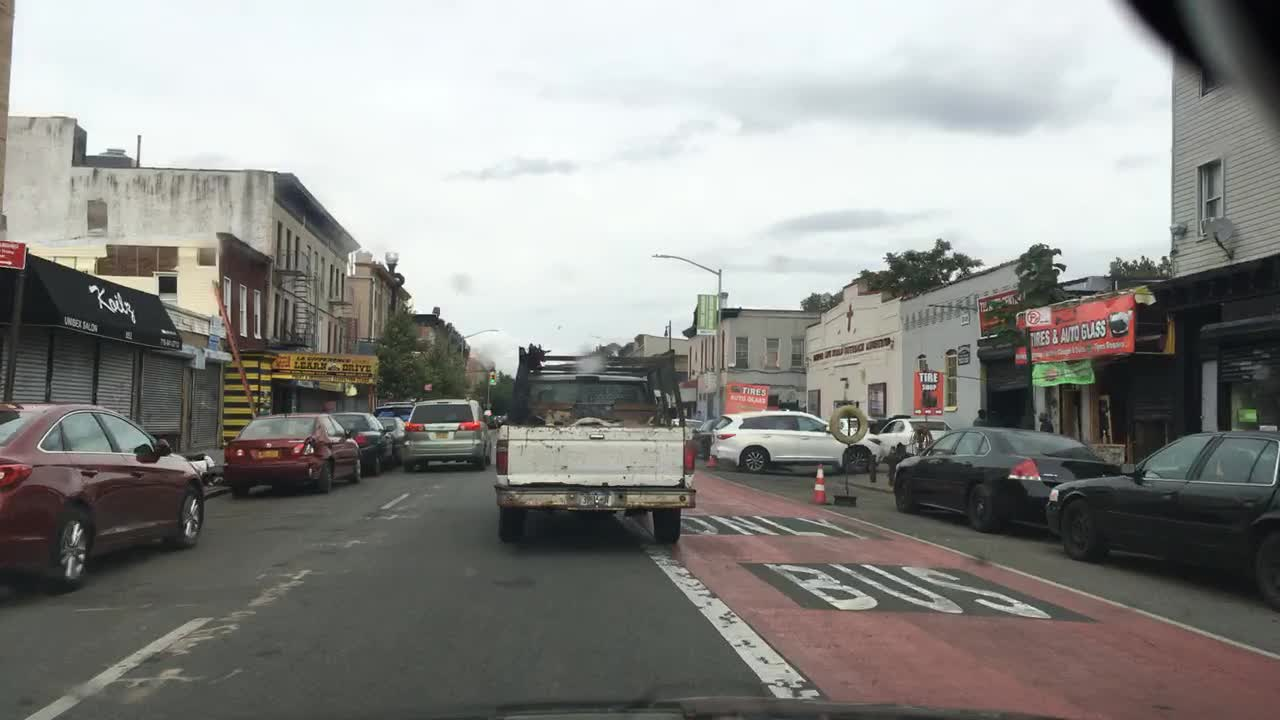car: (1046, 429, 1279, 614), (0, 397, 207, 589), (890, 424, 1126, 533), (219, 409, 363, 498), (712, 407, 885, 473), (402, 397, 494, 472), (331, 409, 392, 477), (870, 416, 955, 464), (379, 413, 407, 466), (692, 417, 722, 457), (377, 398, 421, 419), (670, 417, 702, 442)
person: (1034, 408, 1058, 436), (971, 407, 990, 428)
traffic light: (487, 367, 497, 387)
truck: (492, 341, 698, 542)
